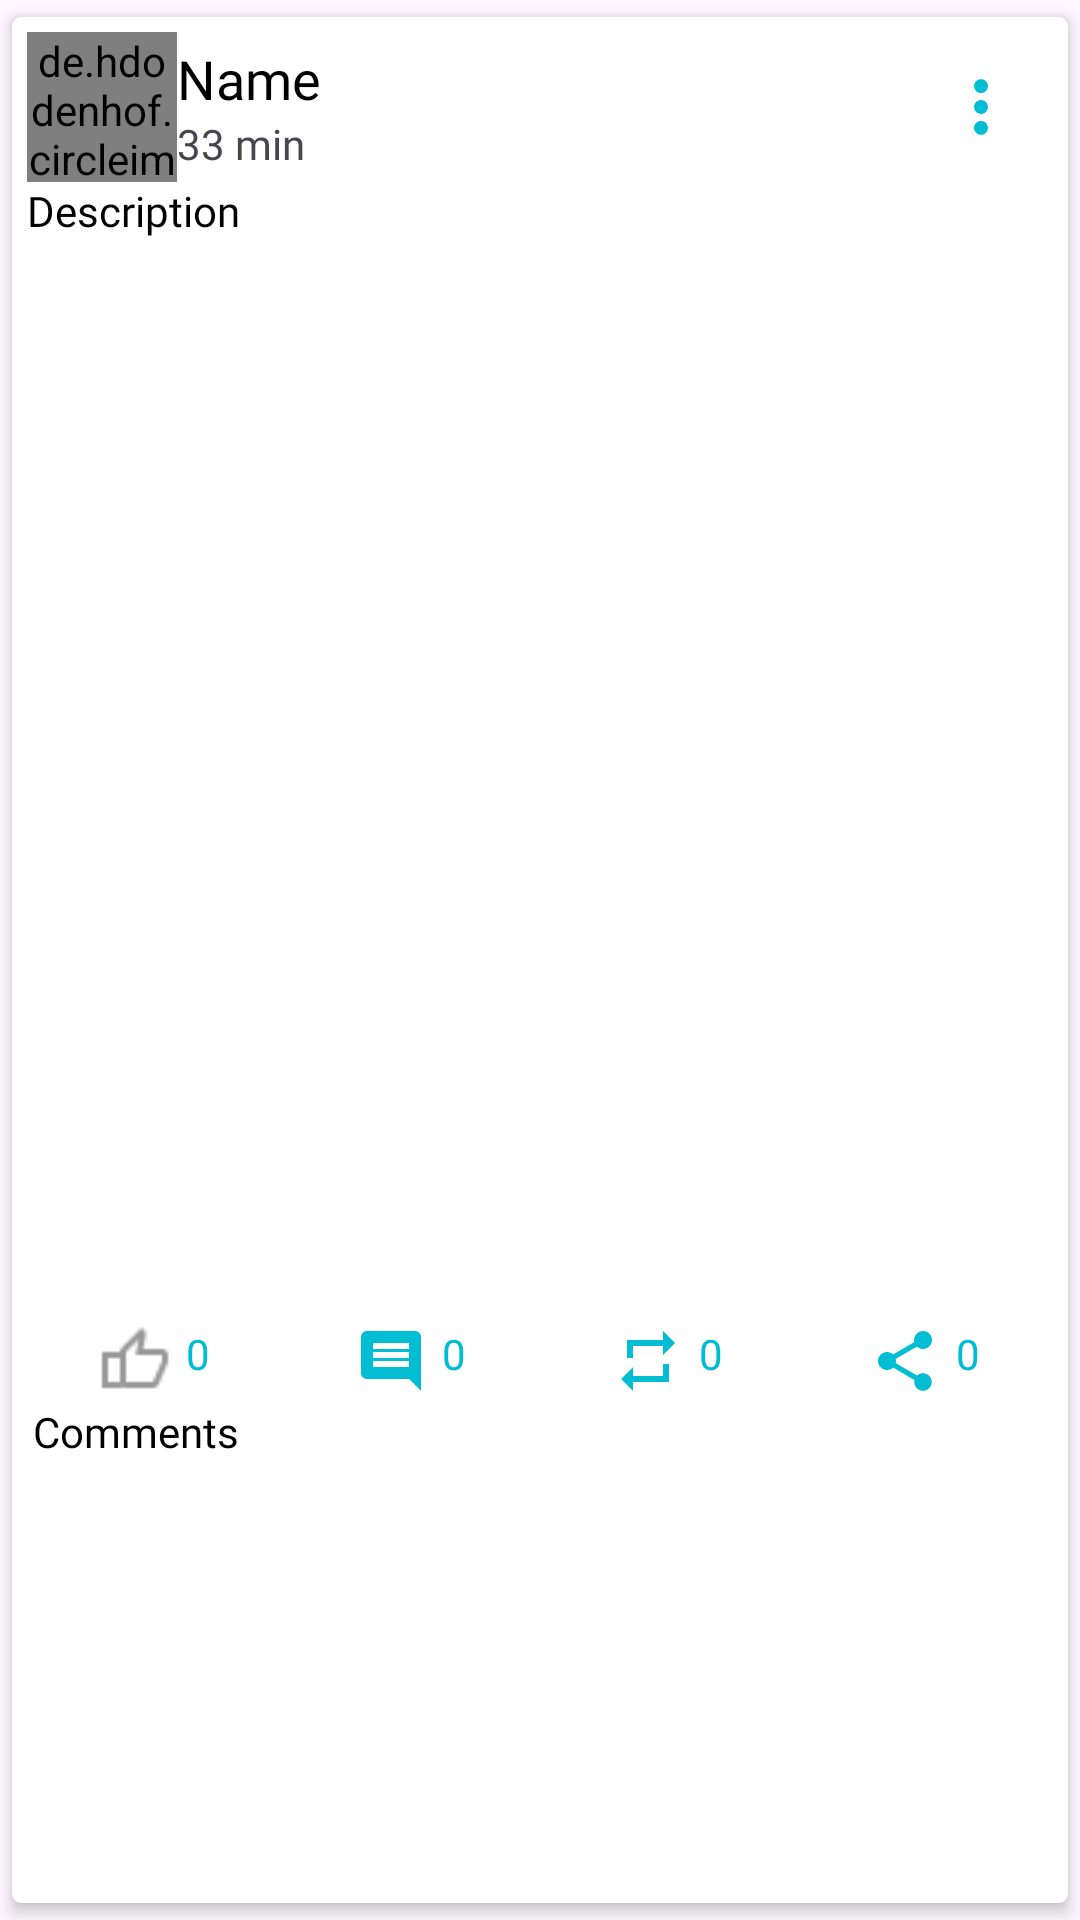

Icon bounding boxes for this 1080px x 1920px phone screenshot, format (x1, y1, x2, y2):
like: (101, 1328, 169, 1389)
more: (974, 79, 988, 135)
repost: (621, 1331, 675, 1391)
share: (878, 1331, 932, 1391)
